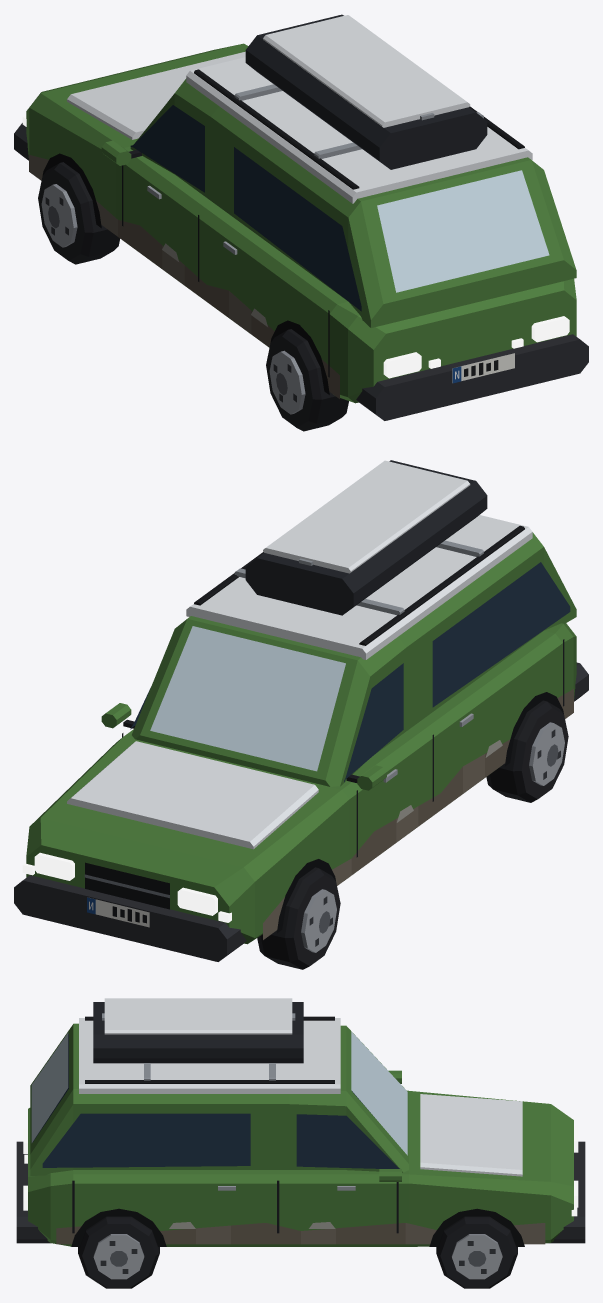
The model's file is estate.glb.
3 views of the same model, one above another, from view 1: azimuth 30°, elevation 25°; view 2: azimuth 150°, elevation 25°; view 3: azimuth 270°, elevation 25° (orthographic). The views are drawn at different scales.
Parts seen in each view (by area): view 1: body.002, wheel_RL.002, wheel_FL.002; view 2: body.002, wheel_FL.002, wheel_RL.002; view 3: body.002, wheel_RR.002, wheel_FR.002.
Boxes of the visible parts, box(x1,y1,x2,y2) form: body.002: box(14, 14, 588, 420); wheel_RL.002: box(266, 329, 348, 431); wheel_FL.002: box(38, 162, 119, 264); body.002: box(14, 460, 588, 961); wheel_FL.002: box(257, 867, 340, 969); wheel_RL.002: box(486, 700, 568, 802); body.002: box(16, 998, 585, 1246); wheel_RR.002: box(78, 1216, 159, 1288); wheel_FR.002: box(436, 1216, 517, 1288).
Size of the model in its own units: 2.16 by 2.21 by 5.06.
